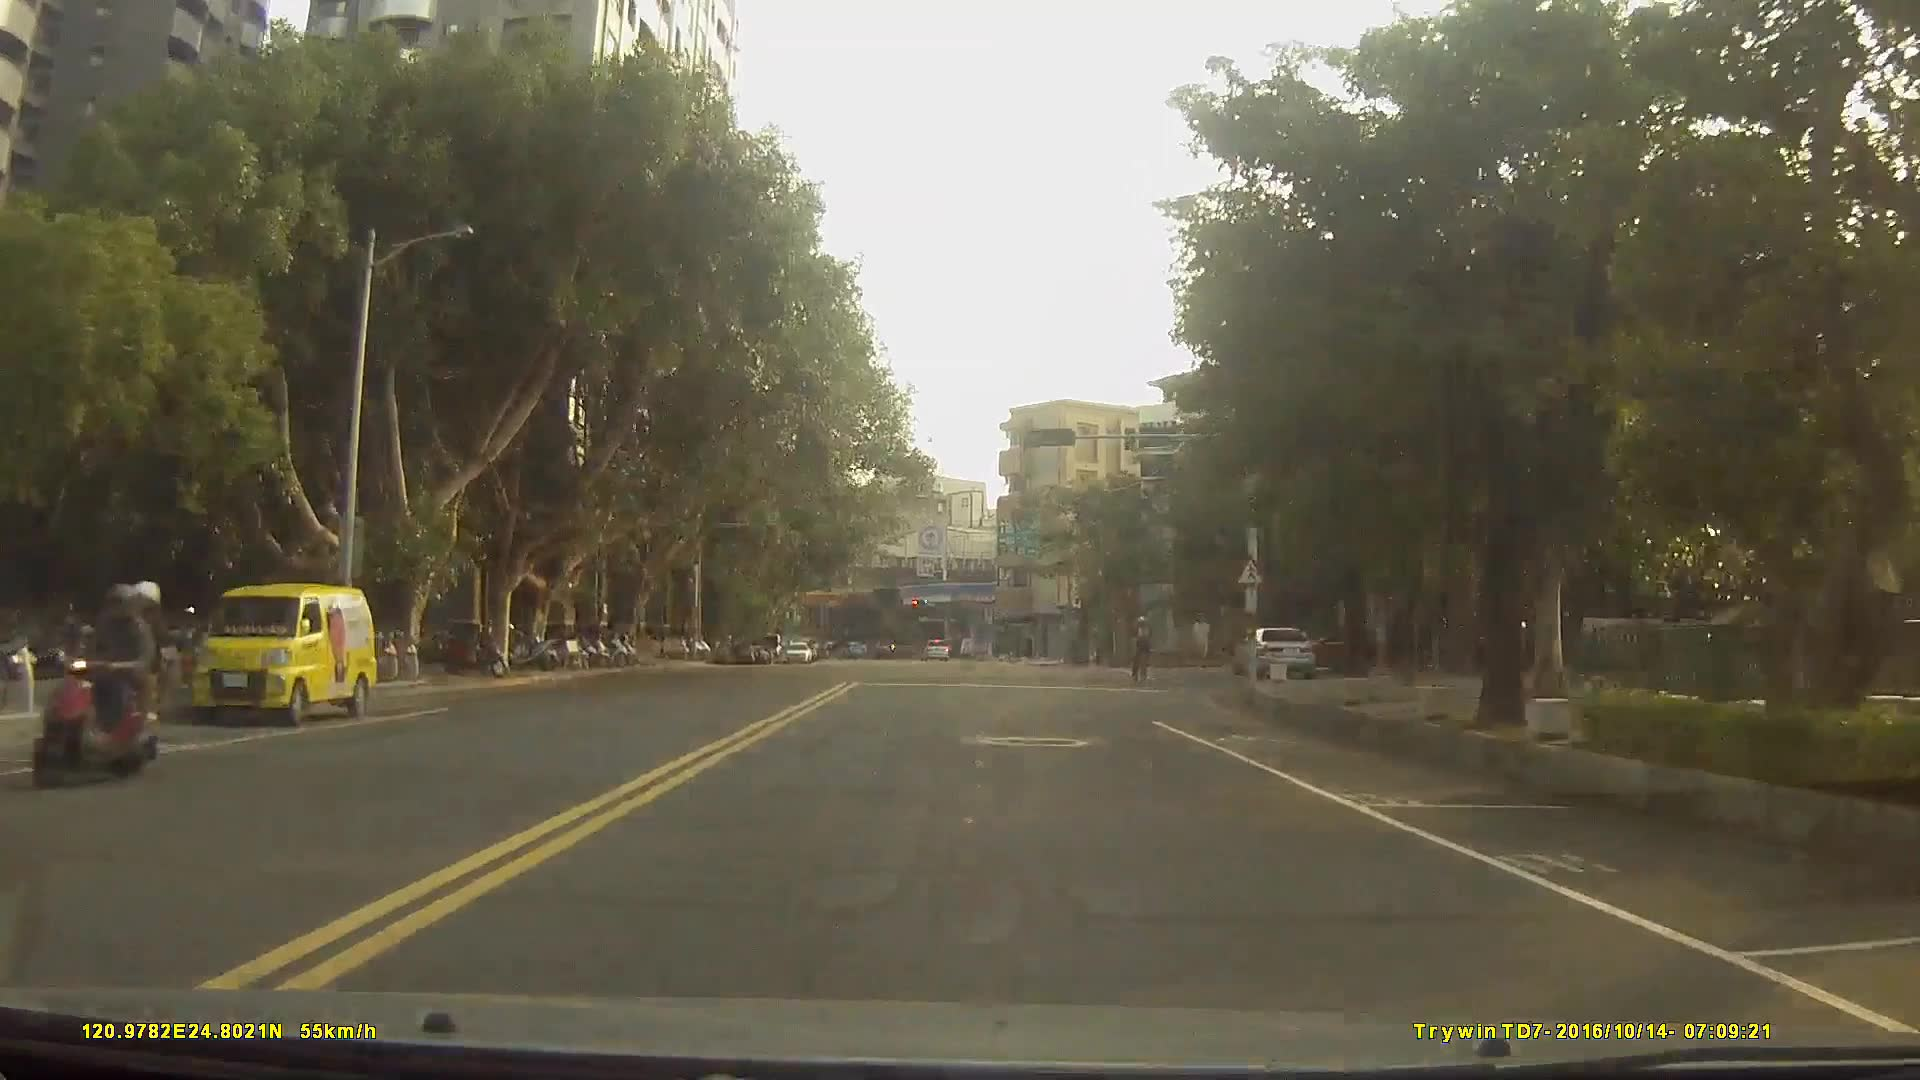pedestrian: (1191, 616, 1216, 683)
rider: (32, 575, 161, 784), (1128, 618, 1156, 681)
vehicle: (1227, 625, 1317, 679), (919, 636, 949, 661), (782, 641, 813, 663)
